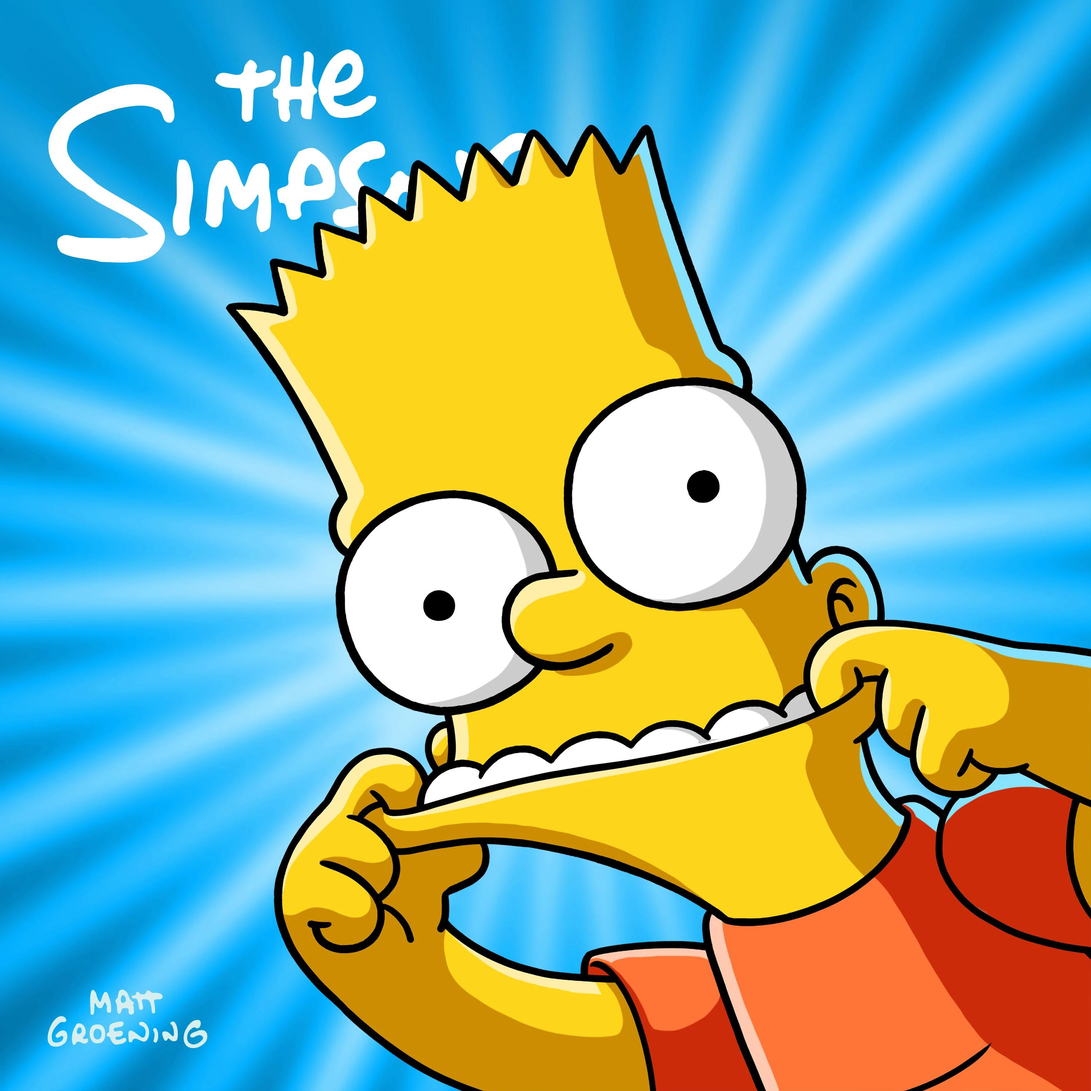Bart: (135, 139, 1091, 1091)
